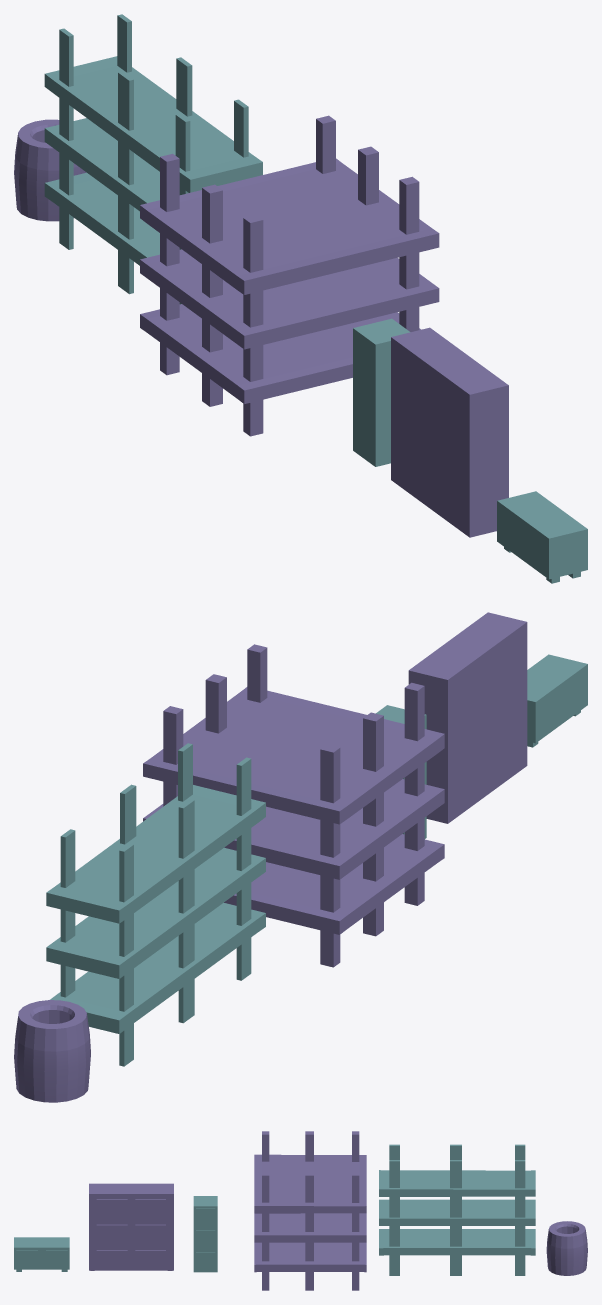
The model's file is Furniture.fbx.
The picture shows the model from 3 angles, top to bottom: view 1: azimuth 30°, elevation 25°; view 2: azimuth 150°, elevation 25°; view 3: azimuth 270°, elevation 25°; orthographic projection. The views are drawn at different scales.
Visible parts, largest first — view 1: Pallet, Thin_Metal_Pallet, Double_Cabinet, Low_Drawers, Filing_Cabinet, Barrel_Container; view 2: Pallet, Thin_Metal_Pallet, Double_Cabinet, Barrel_Container, Low_Drawers; view 3: Thin_Metal_Pallet, Pallet, Double_Cabinet, Barrel_Container, Filing_Cabinet, Low_Drawers.
Part boxes in pixels (x1,y1,x2,y2): Pallet: (140, 115, 439, 436); Thin_Metal_Pallet: (44, 14, 262, 304); Double_Cabinet: (391, 327, 508, 537); Low_Drawers: (497, 491, 587, 583); Filing_Cabinet: (353, 318, 410, 466); Barrel_Container: (14, 119, 86, 221); Pallet: (143, 644, 444, 967); Thin_Metal_Pallet: (46, 743, 265, 1066); Double_Cabinet: (408, 612, 527, 823); Barrel_Container: (14, 1000, 90, 1102); Low_Drawers: (527, 654, 587, 747); Thin_Metal_Pallet: (379, 1144, 535, 1275); Pallet: (254, 1131, 366, 1290); Double_Cabinet: (89, 1183, 173, 1270); Barrel_Container: (546, 1221, 587, 1275); Filing_Cabinet: (193, 1196, 217, 1272); Low_Drawers: (14, 1237, 69, 1271).
Size of the model in its own units: 5 by 5.26 by 23.68.
